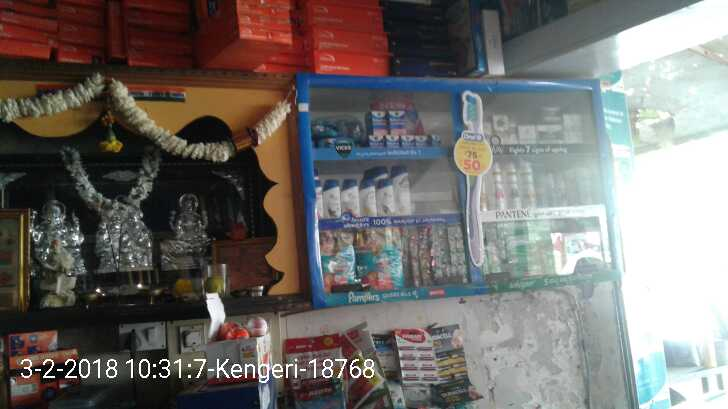beauty: (391, 165, 411, 214), (515, 159, 535, 207), (486, 161, 505, 208), (501, 162, 520, 207), (356, 176, 376, 216), (340, 180, 359, 218), (323, 176, 341, 216), (376, 177, 394, 215), (540, 102, 561, 127), (537, 124, 562, 144), (489, 112, 508, 136), (517, 124, 536, 147)
pharmacy: (354, 224, 406, 291), (315, 230, 355, 287), (505, 253, 552, 276), (371, 109, 388, 137), (386, 109, 405, 134), (368, 132, 383, 148)
